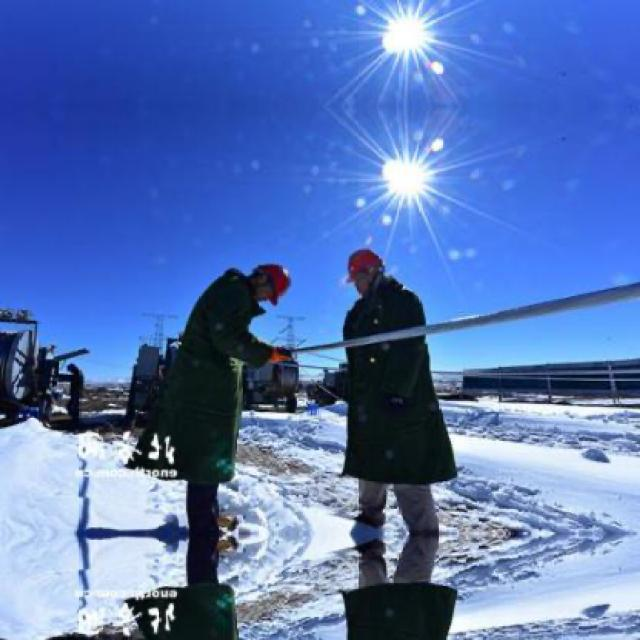helmet: (245, 260, 292, 304), (346, 245, 386, 296)
